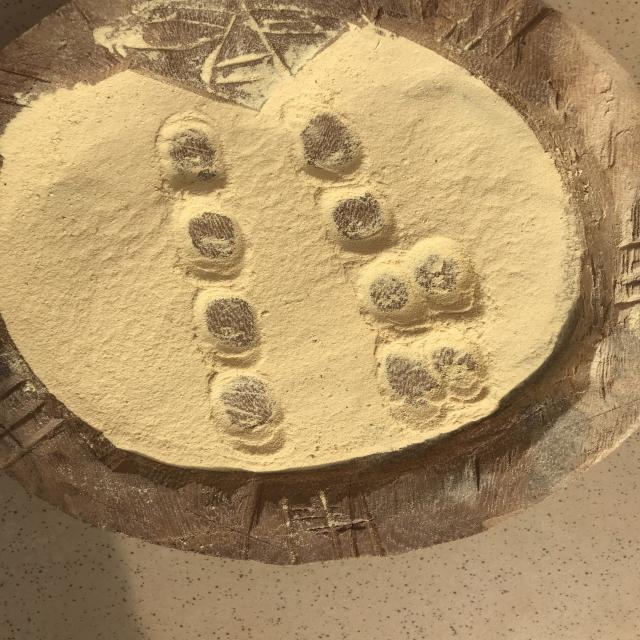double: (352, 245, 496, 335), (376, 333, 498, 425)
single: (208, 365, 294, 468), (163, 195, 257, 286), (150, 112, 235, 196), (188, 282, 272, 367), (284, 102, 369, 182), (318, 183, 406, 253)
